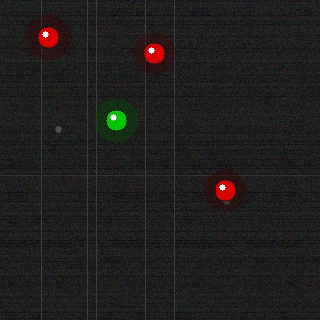green_normal: (104, 108, 128, 132)
red_fault: (213, 178, 237, 202), (36, 25, 60, 49), (142, 41, 166, 65)
